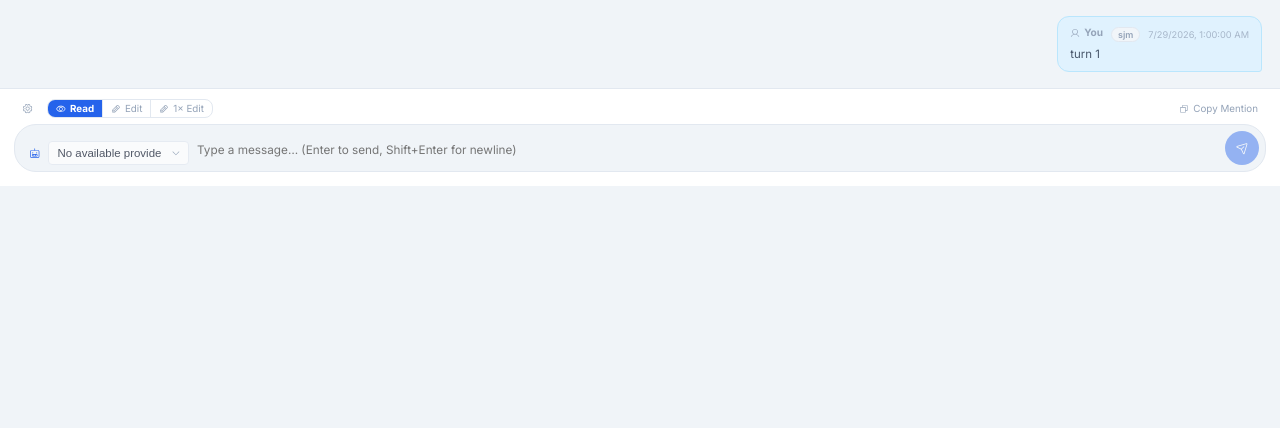
Scenario: ConversationView optimistic send › leaves a failed retry in place when later turns arrive
Type "failed A" into the text box with placeholder "Type a message… (Enter to send, Shift+Enter for newline)" at (707, 151), box [197,137,1217,165]
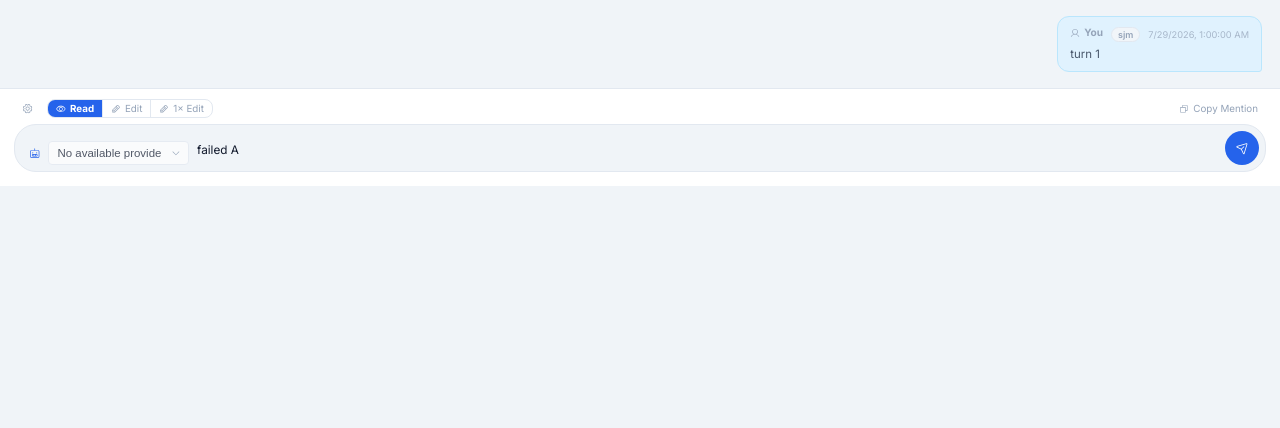
Submit the form, box [0,88,1279,186]
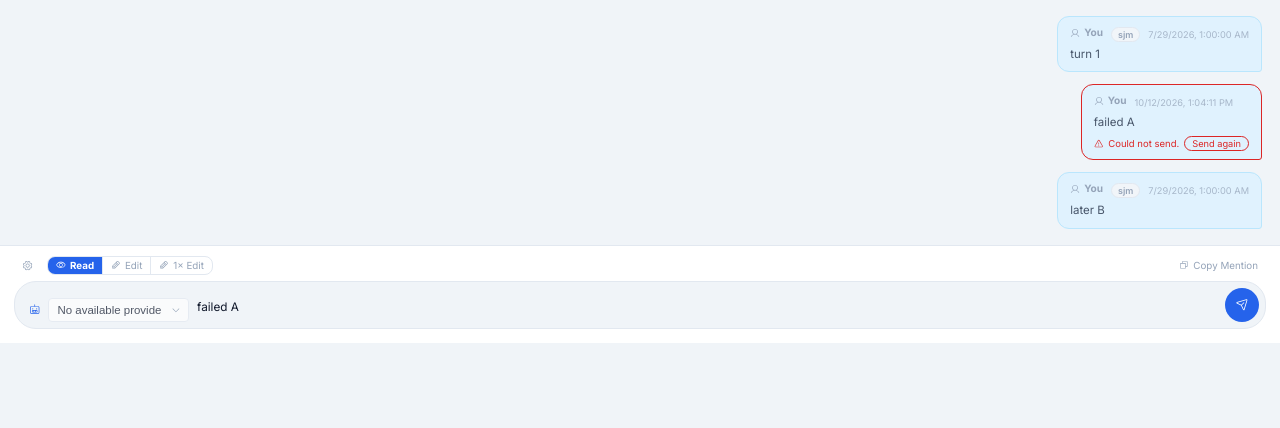
Click the button with class "conv-retry" at (1217, 144), box [1184,136,1249,151]
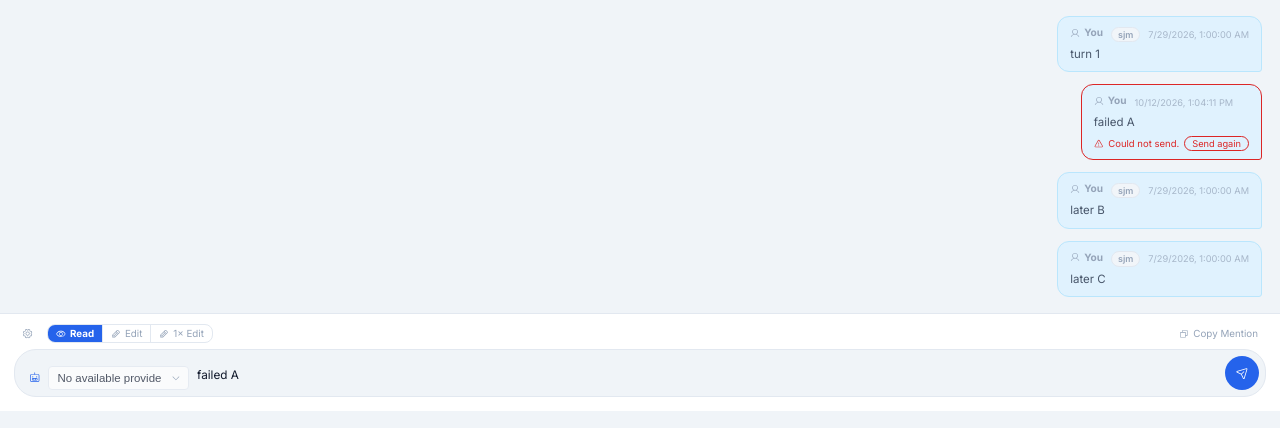
Now the button with class "conv-retry" is shown, box [1184,136,1249,151]
Now the elements with class "conv-body" read "turn 1", "failed A", "later B", "later C", in this order, box [1070,47,1100,61]; [1094,115,1135,129]; [1070,203,1105,217]; [1070,272,1106,286]
